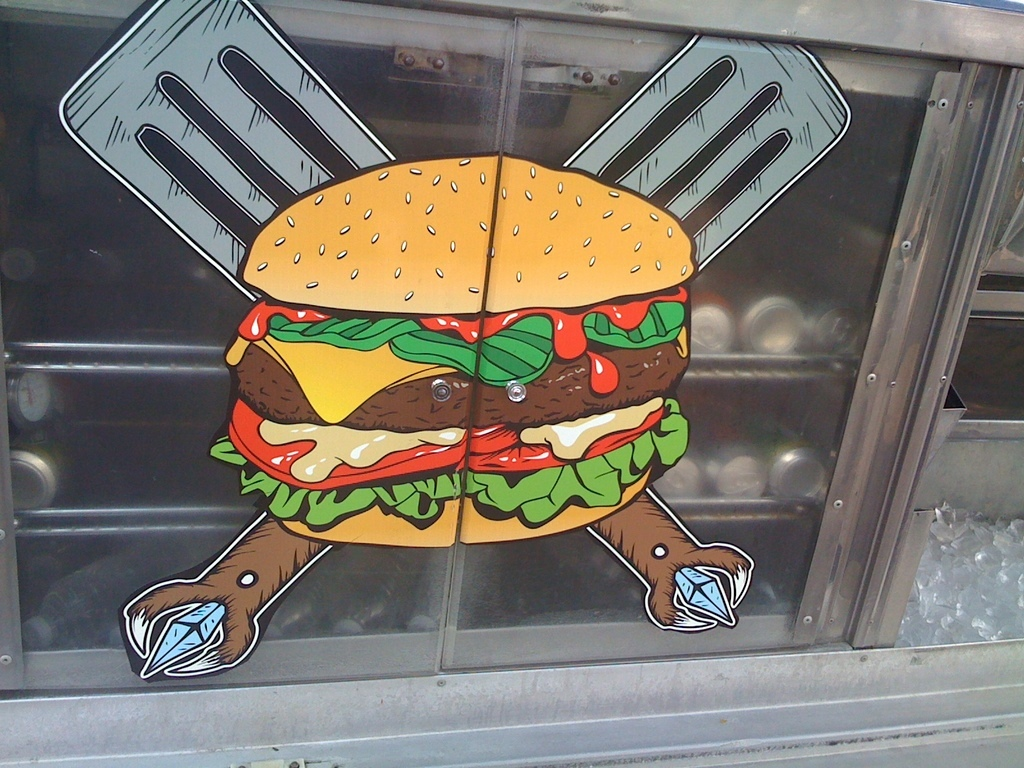Hamburger: (206, 152, 693, 544)
